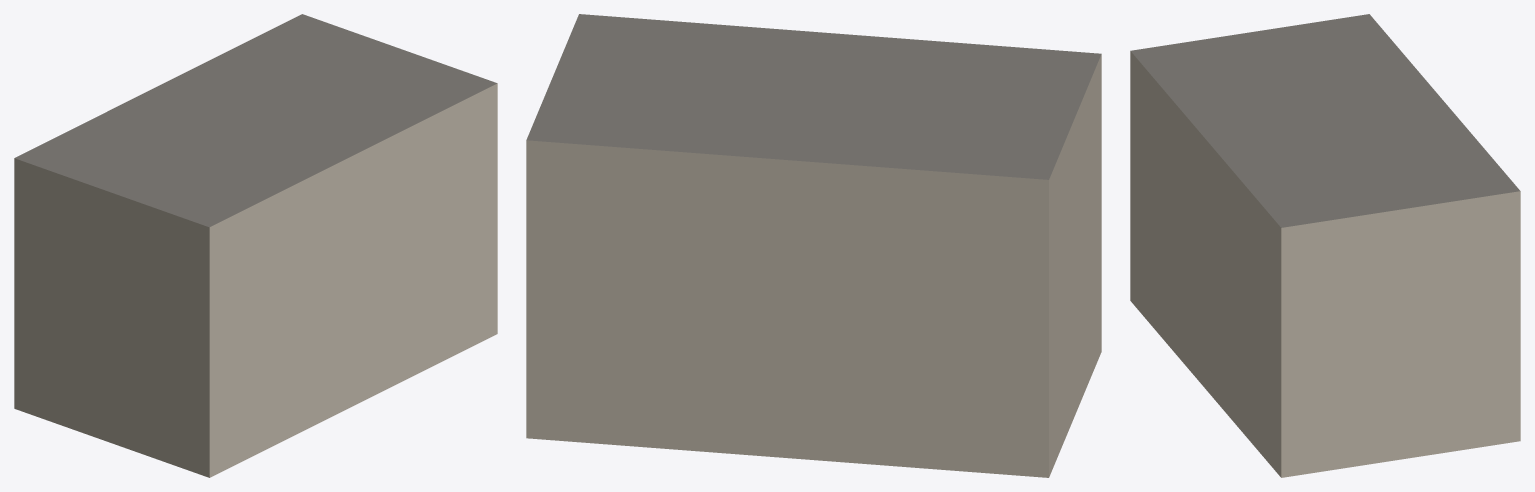
3 views of the same model, side by side, from view 1: azimuth 30°, elevation 25°; view 2: azimuth 150°, elevation 25°; view 3: azimuth 270°, elevation 25° (orthographic). The views are drawn at different scales.
Visible parts, largest first — view 1: HP-w380339995; view 2: HP-w380339995; view 3: HP-w380339995.
Part boxes in pixels (x1,y1,x2,y2): HP-w380339995: (14,14,497,477); HP-w380339995: (526,14,1101,477); HP-w380339995: (1130,14,1520,477).
Size of the model in its own units: 33.03 by 18 by 25.46.
